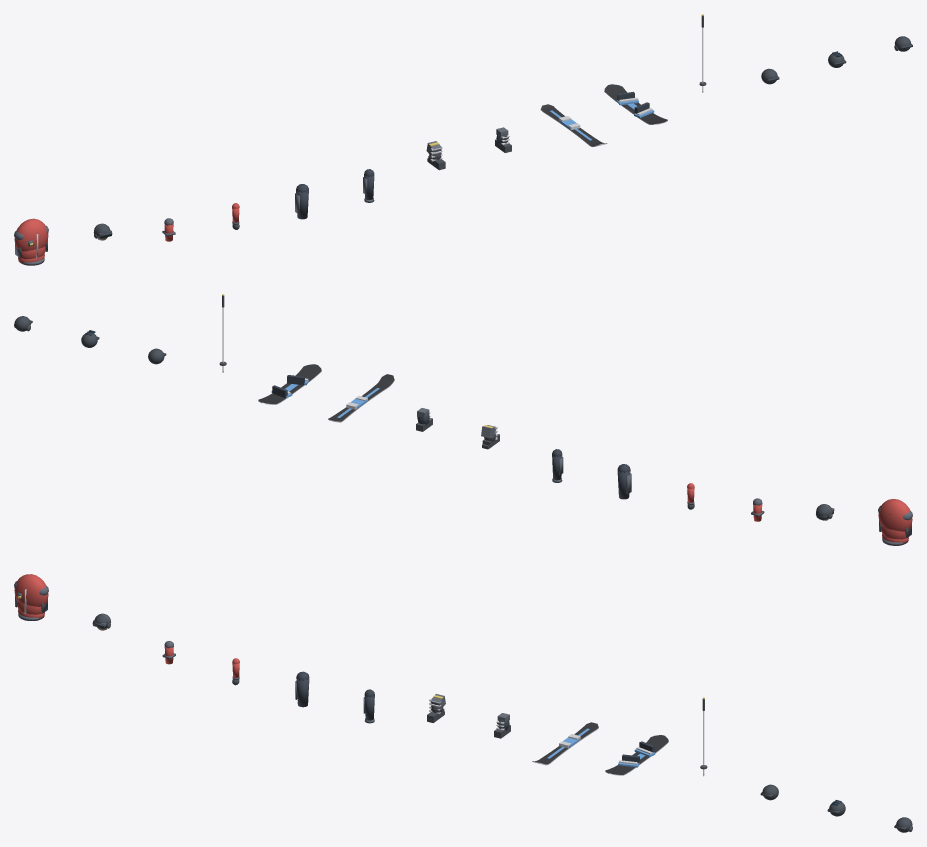
Rendered from character.glb.
The picture shows the model from 3 angles, top to bottom: view 1: azimuth 30°, elevation 25°; view 2: azimuth 150°, elevation 25°; view 3: azimuth 330°, elevation 25°; orthographic projection.
Visible parts, largest first — view 1: ch_torso, gear_board, gear_ski; view 2: ch_torso, gear_board, gear_ski; view 3: ch_torso, gear_board, gear_ski.
Boxes of the visible parts, box(x1,y1,x2,y2) form: ch_torso: box(14, 218, 48, 265); gear_board: box(604, 84, 667, 124); gear_ski: box(540, 104, 607, 146); ch_torso: box(878, 499, 912, 545); gear_board: box(258, 364, 321, 404); gear_ski: box(328, 374, 394, 422); ch_torso: box(14, 574, 48, 620); gear_board: box(605, 735, 668, 775); gear_ski: box(532, 722, 598, 765).
Size of the model in its own units: 15.43 by 1.72 by 1.78.
